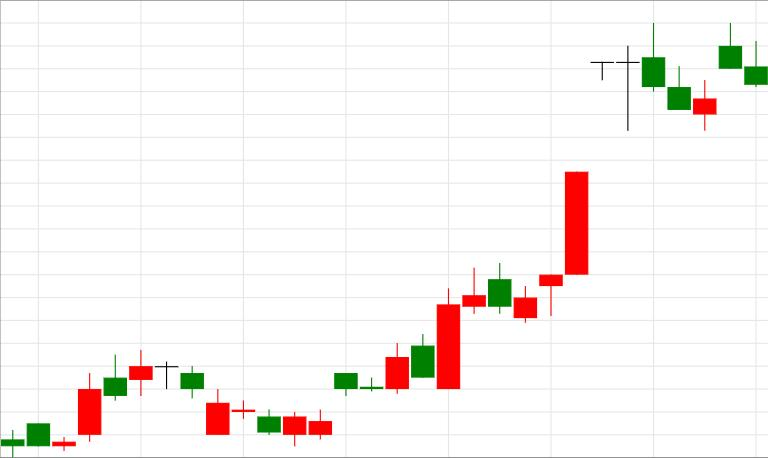evening_star_fall: (53, 350, 204, 451)
shooting_star_fall: (514, 22, 665, 323)
